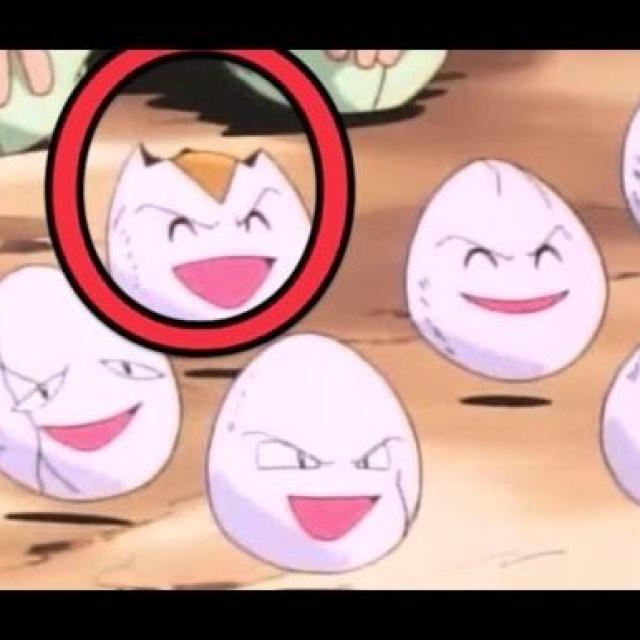Exeggcute: (38, 140, 614, 551)
